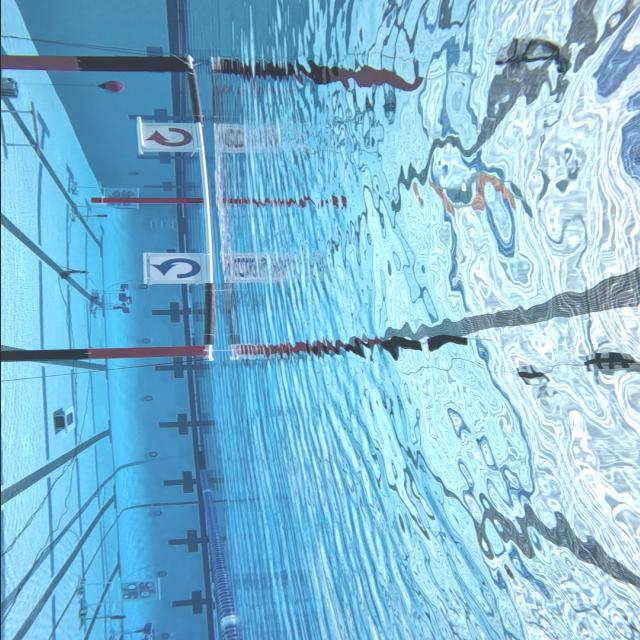blue_side: (133, 248, 214, 288)
red_side: (134, 118, 202, 156)
